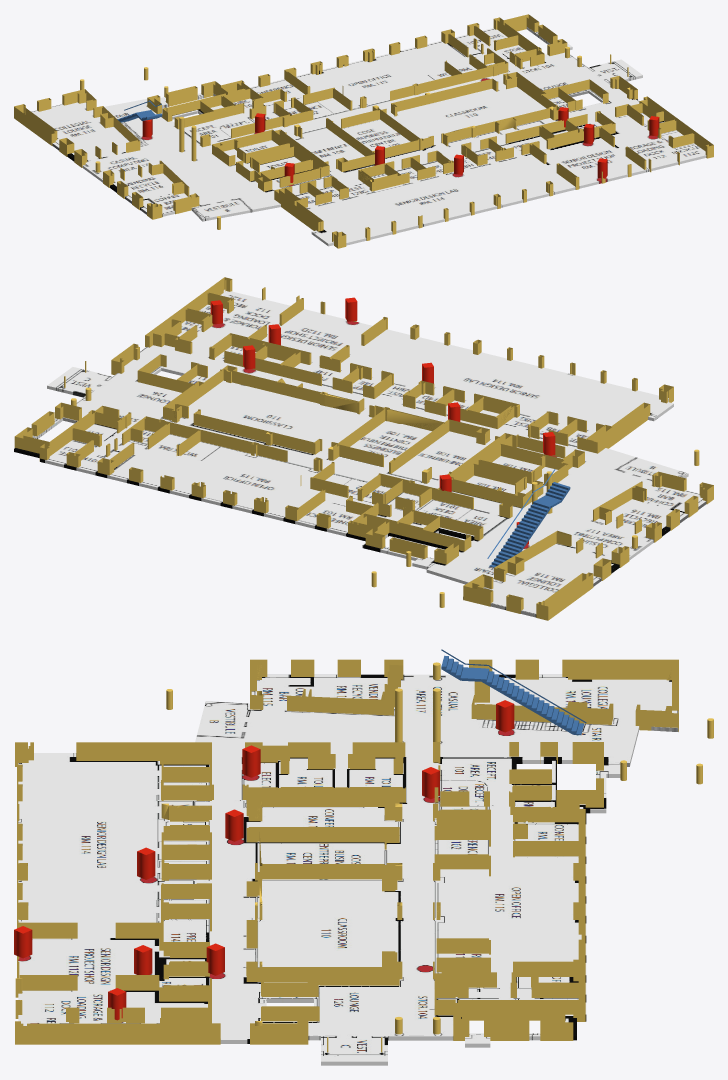
File: ISELF_1stfloor.obj
3 views of the same model, one above another, from view 1: azimuth 30°, elevation 25°; view 2: azimuth 150°, elevation 25°; view 3: azimuth 270°, elevation 25° (orthographic). The views are drawn at different scales.
Parts seen in each view (by area): view 1: ISELF1stFLoorf, ISELF1stFloorWalls; view 2: ISELF1stFLoorf, ISELF1stFloorWalls, StraightStair001; view 3: ISELF1stFLoorf, ISELF1stFloorWalls, StraightStair001, StraightStair002.
Part boxes in pixels (left/top/right/bottom): ISELF1stFLoorf: left=31, top=27, right=706, bottom=246; ISELF1stFloorWalls: left=14, top=14, right=713, bottom=248; ISELF1stFLoorf: left=14, top=289, right=706, bottom=617; ISELF1stFloorWalls: left=14, top=277, right=713, bottom=620; StraightStair001: left=487, top=493, right=551, bottom=567; ISELF1stFLoorf: left=18, top=674, right=678, bottom=1065; ISELF1stFloorWalls: left=15, top=659, right=713, bottom=1052; StraightStair001: left=481, top=666, right=586, bottom=734; StraightStair002: left=441, top=649, right=489, bottom=681.
Size of the model in its own units: 2513 by 251 by 1919.
Materials: 4 (1 with a texture image).
